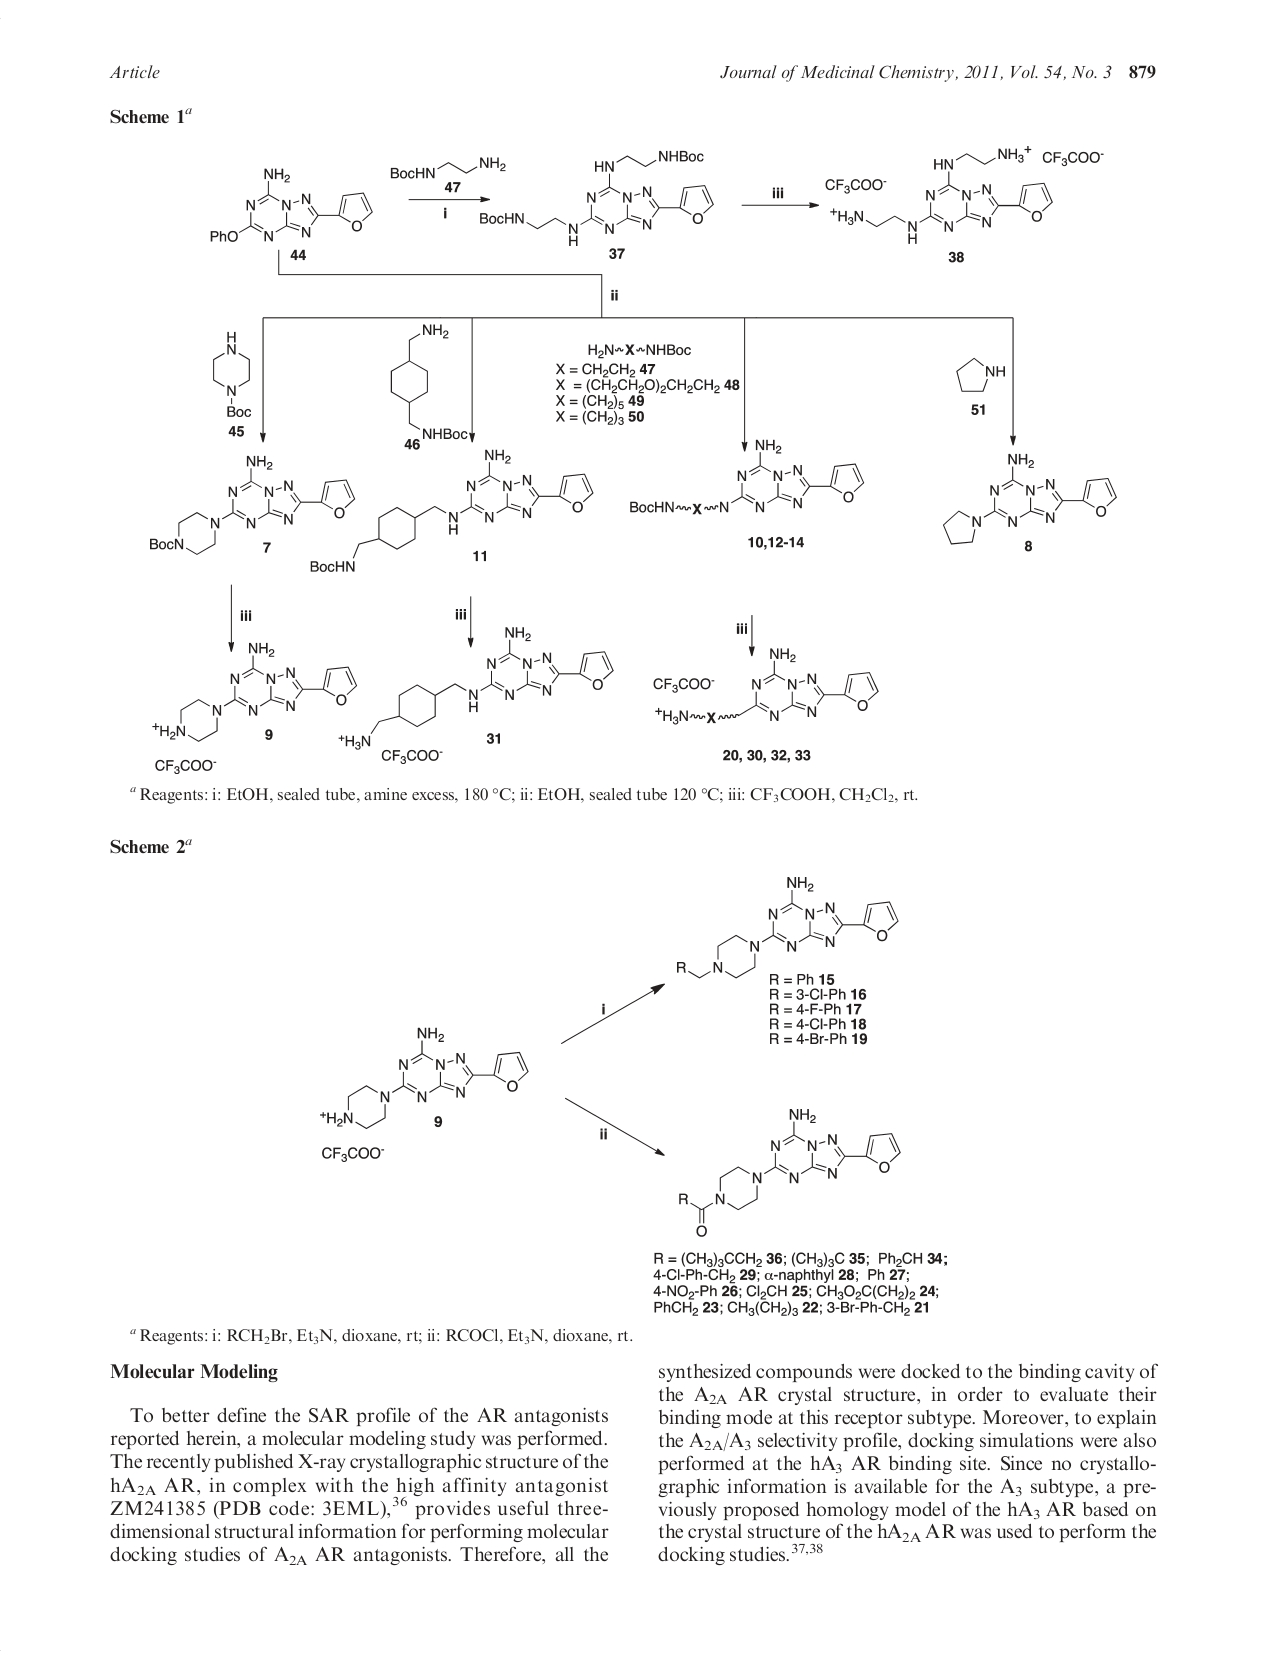exist_molecular: (309, 447, 597, 575), (339, 624, 614, 750), (313, 1021, 531, 1168), (674, 1106, 904, 1237), (824, 144, 1108, 249), (149, 641, 358, 775), (477, 144, 715, 249), (676, 872, 900, 980), (146, 451, 356, 557), (650, 646, 882, 727), (626, 440, 866, 517), (940, 451, 1120, 544), (195, 160, 374, 243), (390, 321, 468, 440), (195, 324, 258, 422), (388, 148, 507, 181), (942, 354, 1005, 398)
